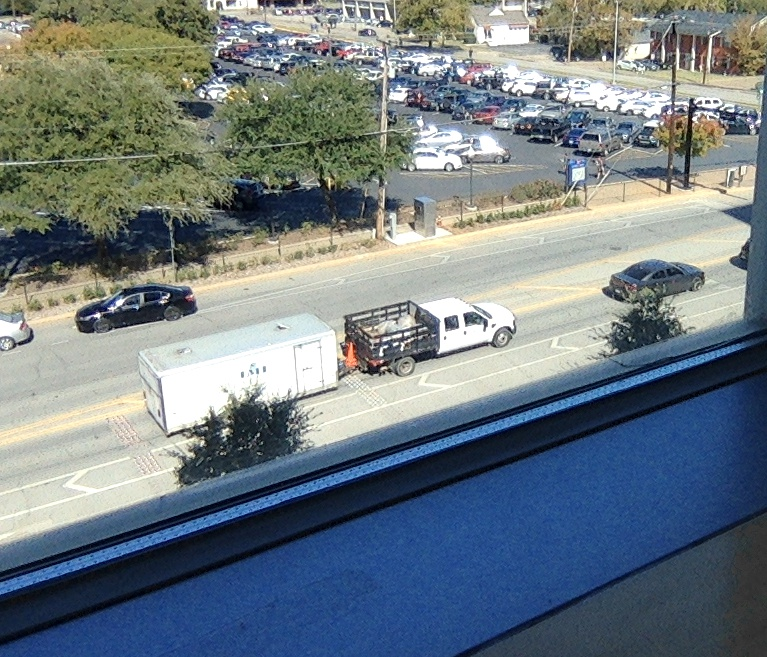car: (300, 300, 467, 393)
